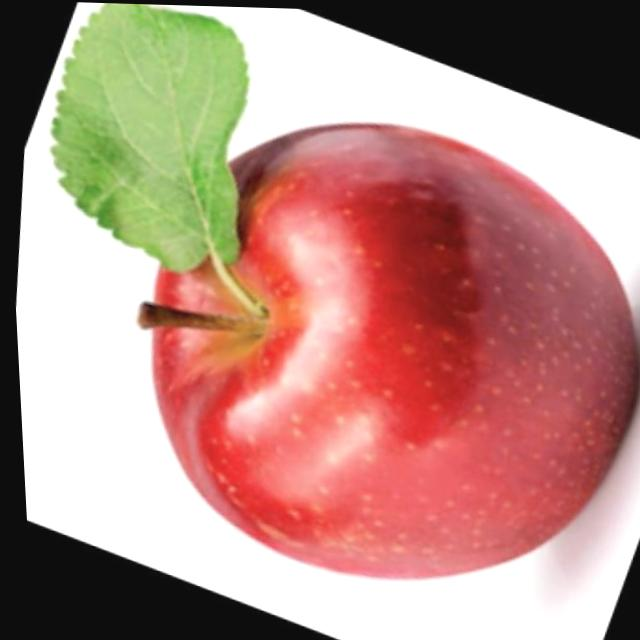Apple: (99, 86, 640, 609)
